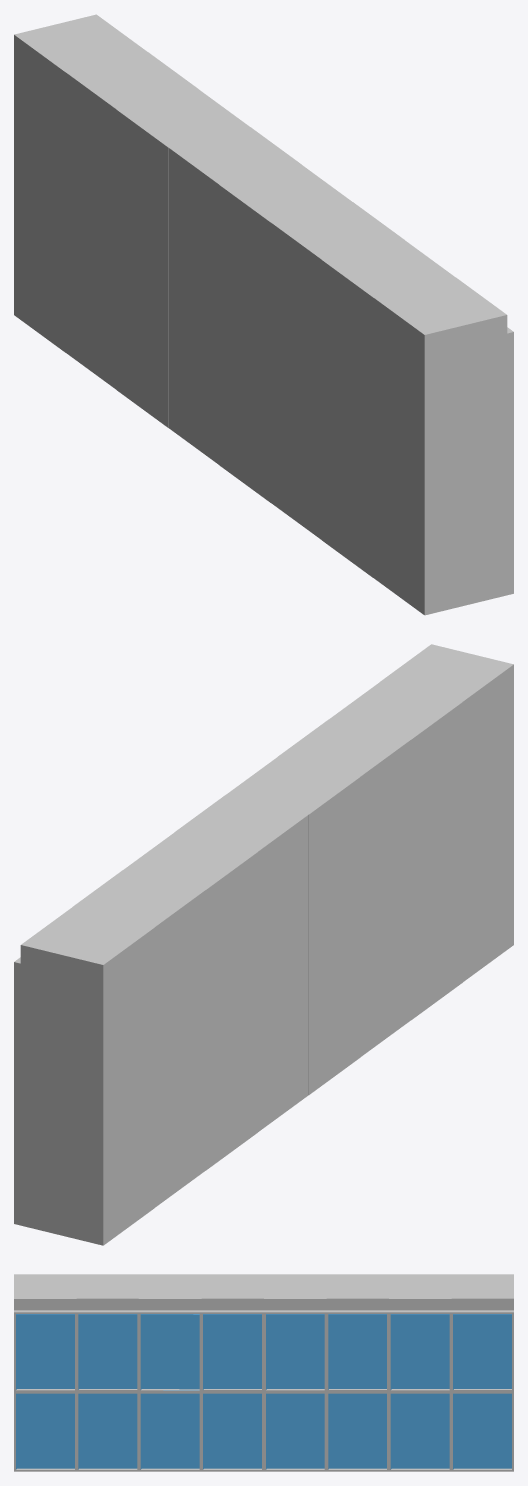
The model's file is Locker_low.fbx.
The picture shows the model from 3 angles, top to bottom: view 1: azimuth 30°, elevation 25°; view 2: azimuth 150°, elevation 25°; view 3: azimuth 270°, elevation 25°; orthographic projection. The views are drawn at different scales.
Visible parts, largest first — view 1: Box004_6, Box004_3, Box004_7, Box004, Box004_1, Box004_5, Box004_2, Box004_4; view 2: Box004, Box004_5, Box004_2, Box004_4, Box004_7, Box004_3, Box004_6, Box004_1; view 3: Box008_1, Box008_4, Box009_4, Box008_7, Box009_1, Box009_7, Box008, Box008_2, Box008_3, Box008_5, Box008_6, Box009 (+12 smaller).
Boxes of the visible parts, bbox=[...] form: Box004_6: bbox=[373, 277, 513, 615]; Box004_3: bbox=[116, 90, 249, 427]; Box004_7: bbox=[321, 240, 454, 577]; Box004: bbox=[14, 14, 147, 352]; Box004_1: bbox=[65, 52, 198, 389]; Box004_5: bbox=[219, 164, 352, 502]; Box004_2: bbox=[168, 127, 301, 464]; Box004_4: bbox=[271, 202, 404, 539]; Box004: bbox=[14, 907, 154, 1245]; Box004_5: bbox=[226, 757, 360, 1094]; Box004_2: bbox=[175, 794, 308, 1132]; Box004_4: bbox=[278, 719, 411, 1057]; Box004_7: bbox=[329, 682, 462, 1019]; Box004_3: bbox=[124, 832, 257, 1170]; Box004_6: bbox=[380, 644, 513, 981]; Box004_1: bbox=[72, 869, 205, 1207]; Box008_1: bbox=[390, 1393, 449, 1469]; Box008_4: bbox=[140, 1393, 199, 1469]; Box009_4: bbox=[140, 1314, 199, 1390]; Box008_7: bbox=[78, 1393, 137, 1469]; Box009_1: bbox=[390, 1314, 449, 1389]; Box009_7: bbox=[78, 1314, 137, 1389]; Box008: bbox=[453, 1393, 511, 1469]; Box008_2: bbox=[266, 1393, 324, 1469]; Box008_3: bbox=[328, 1393, 386, 1469]; Box008_5: bbox=[203, 1393, 261, 1469]; Box008_6: bbox=[16, 1393, 74, 1469]; Box009: bbox=[453, 1314, 511, 1389].
Size of the model in its own units: 50.57 by 150 by 398.
